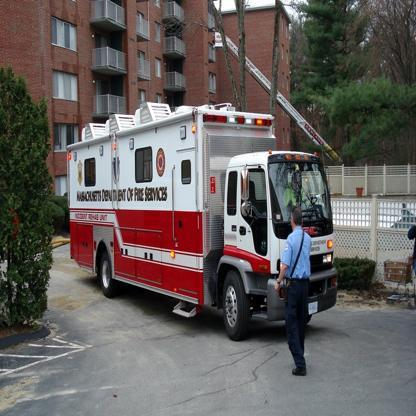fire-truck: (32, 69, 378, 387)
